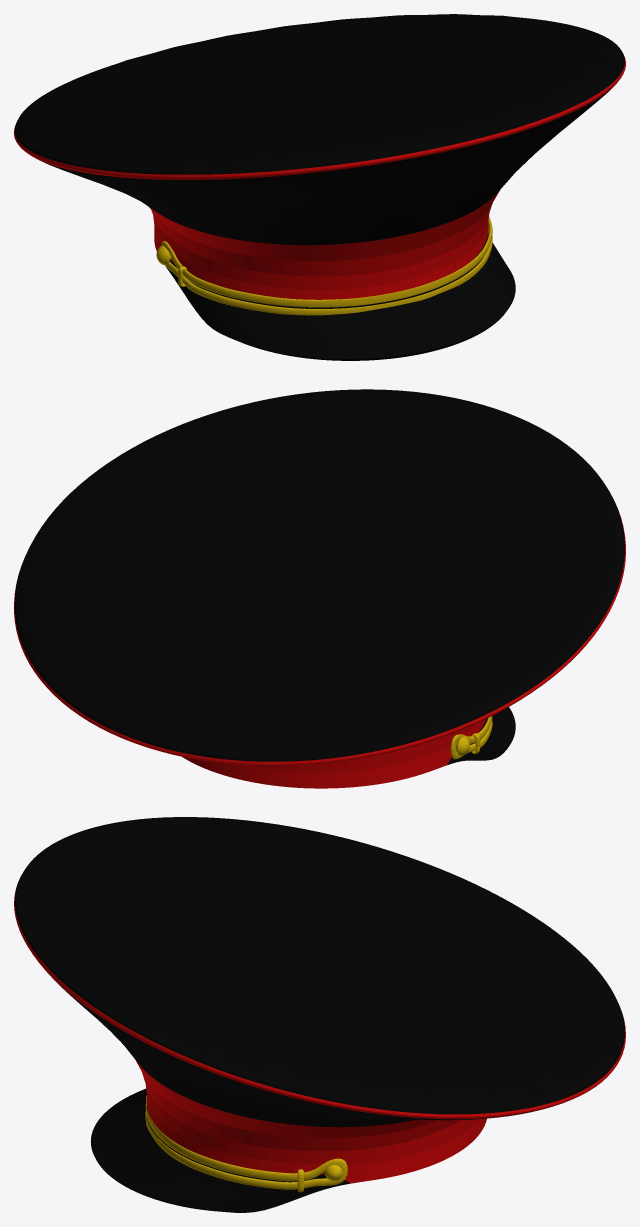
Rendered from Hat_1.0V.obj.
The picture shows the model from 3 angles, top to bottom: view 1: azimuth 30°, elevation 25°; view 2: azimuth 150°, elevation 25°; view 3: azimuth 270°, elevation 25°; orthographic projection. The views are drawn at different scales.
Parts seen in each view (by area): view 1: Circle, Cube; view 2: Circle, Cube; view 3: Circle, Cube.
Part boxes in pixels (x1,y1,x2,y2): Circle: (14, 14, 625, 360); Cube: (161, 216, 492, 315); Circle: (14, 389, 625, 788); Cube: (450, 716, 492, 759); Circle: (14, 817, 625, 1212); Cube: (145, 1095, 347, 1192).
Size of the model in its own units: 3.67 by 1.59 by 3.57.
